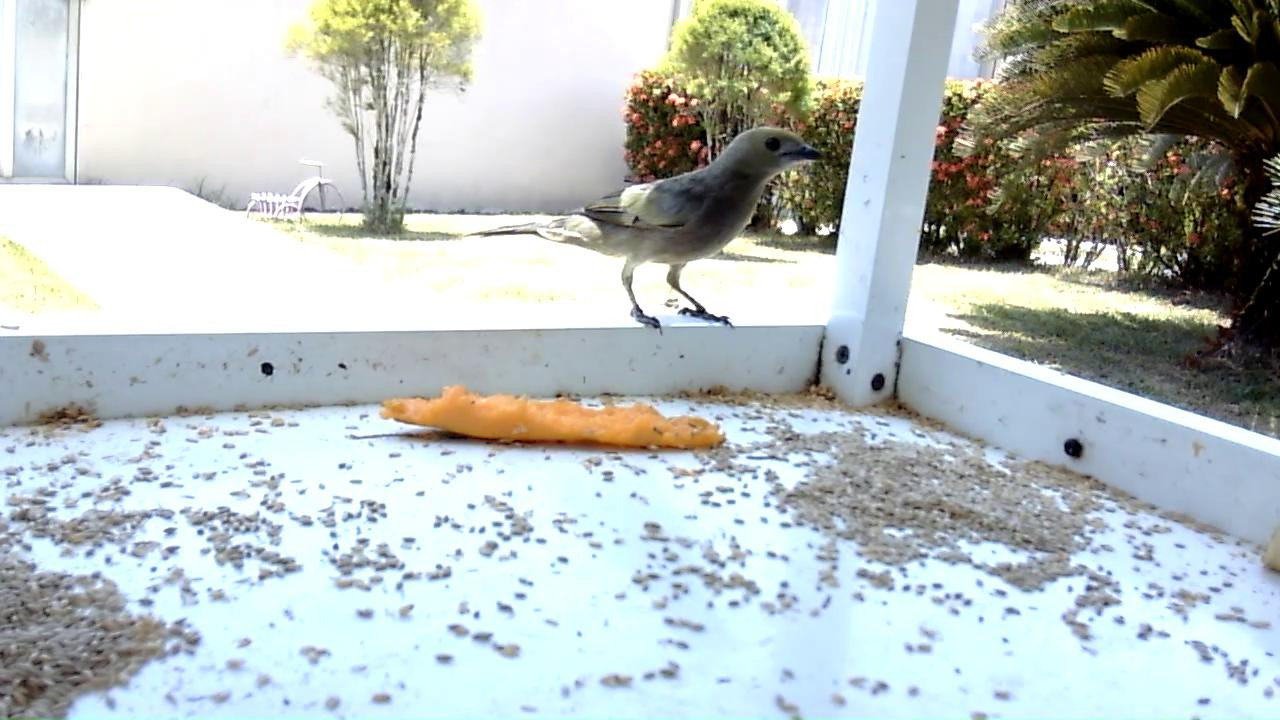sanhaco_do_coqueiro: (466, 125, 830, 339)
